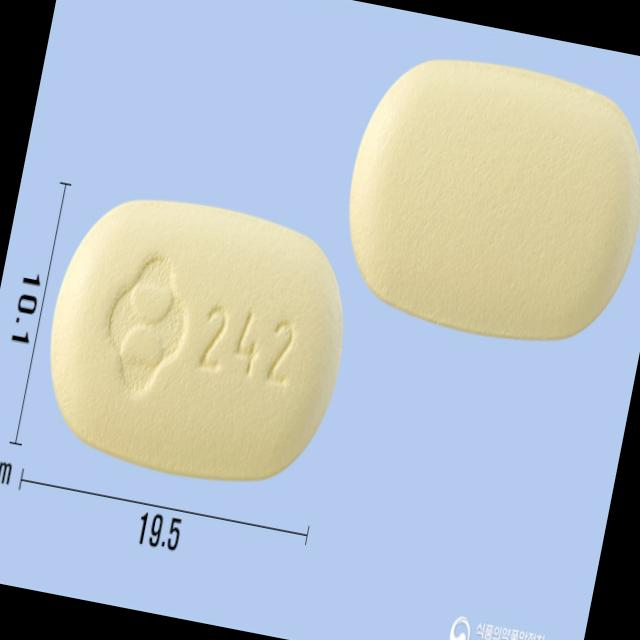Isentress: (28, 180, 366, 502)
